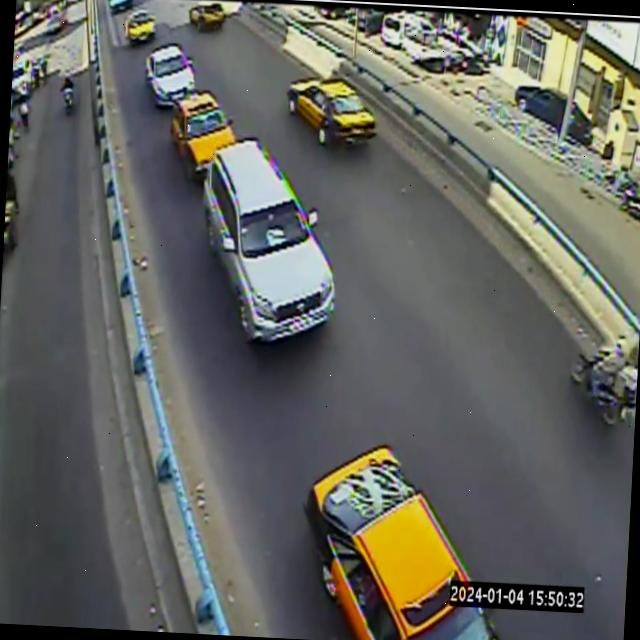car: (304, 446, 500, 640), (203, 138, 334, 342), (171, 91, 235, 178), (288, 80, 375, 144), (146, 43, 194, 105), (189, 1, 225, 31), (125, 9, 154, 46)
